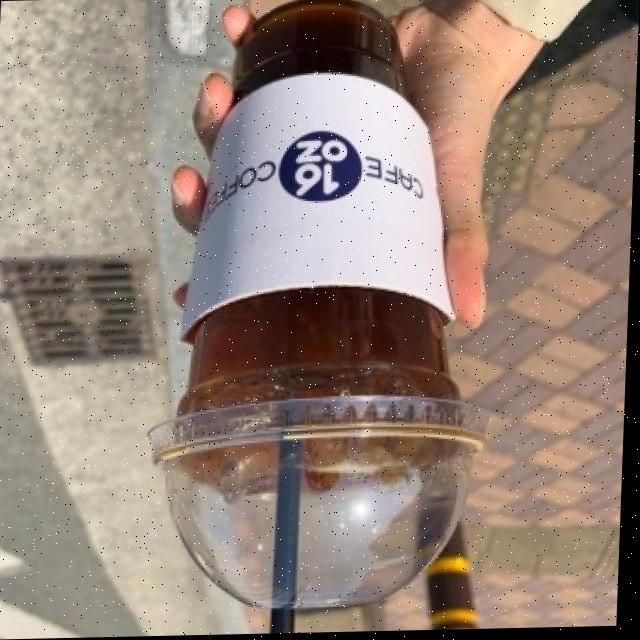cup: (139, 0, 510, 637)
